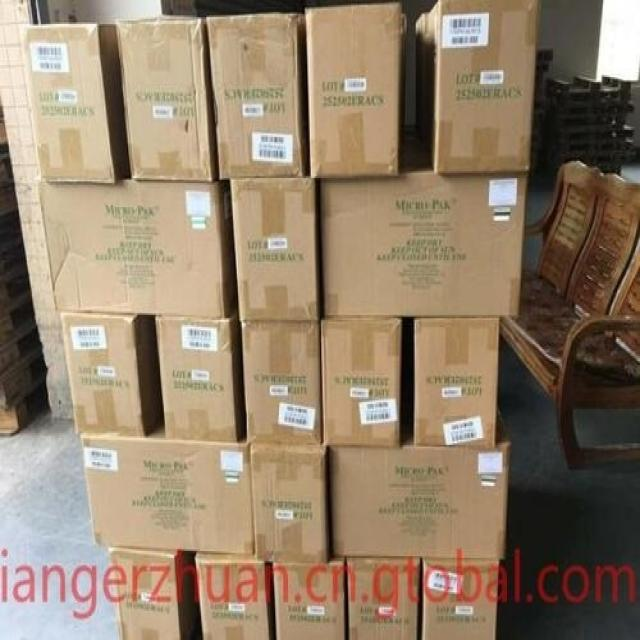box: (321, 121, 529, 317), (81, 411, 332, 565), (38, 166, 237, 320), (329, 409, 511, 561), (415, 0, 540, 175), (115, 15, 219, 181), (206, 14, 308, 180), (305, 3, 401, 178), (24, 24, 128, 185), (230, 161, 324, 323), (59, 311, 164, 438), (155, 305, 244, 441), (413, 317, 499, 450), (321, 315, 401, 447), (241, 323, 324, 445), (109, 548, 198, 640), (195, 554, 275, 640), (421, 560, 500, 640), (271, 558, 347, 640), (347, 558, 421, 640), (399, 14, 407, 139)
